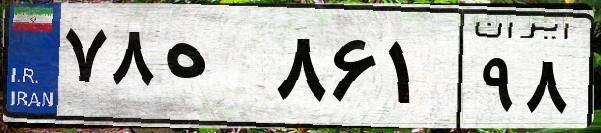1: (385, 28, 445, 110)
6: (330, 28, 385, 110)
7: (57, 26, 110, 100)
8: (270, 28, 330, 110), (525, 38, 570, 115), (110, 28, 158, 98)
9: (475, 38, 525, 113)
ه: (158, 20, 270, 120)
